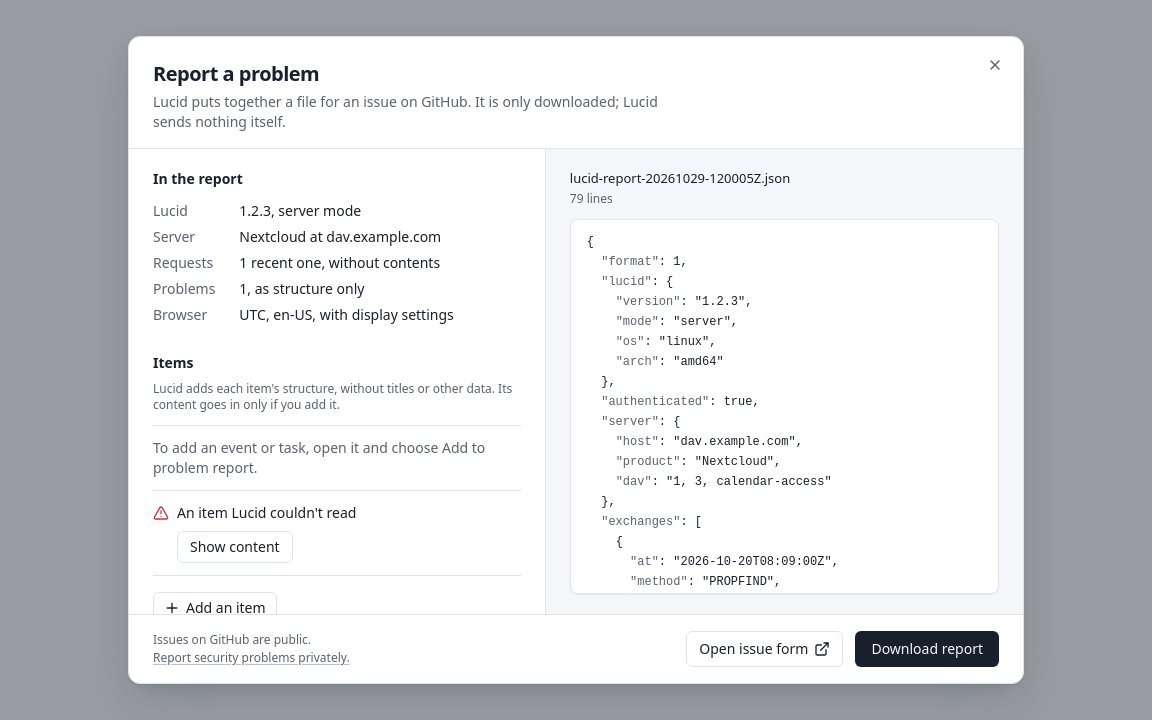
Test: ReportDialog (FR-36) › offers to try again when the content fails to load
This screenshot has width=1152, height=720.
Click the button "Show content" at [235, 547], box [177, 531, 293, 563]
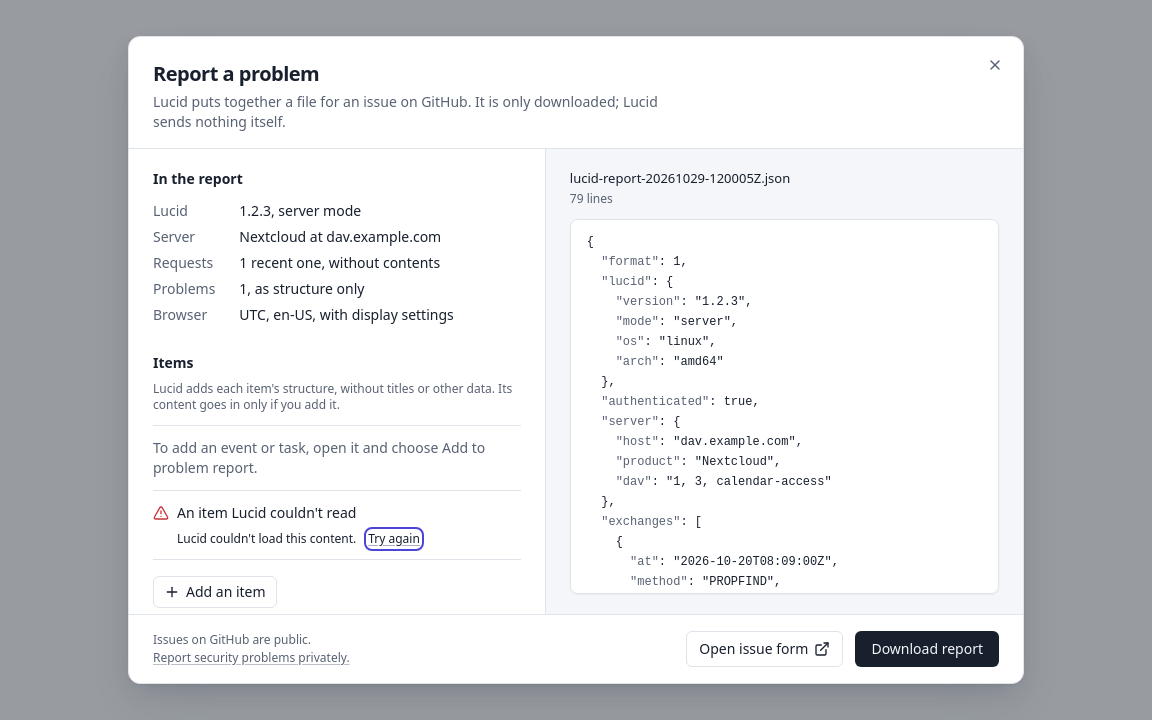
Expected: the text "Lucid couldn't load this content." is shown, [177, 531, 356, 547]
Click the button "Try again" at [394, 539], box [368, 531, 420, 547]
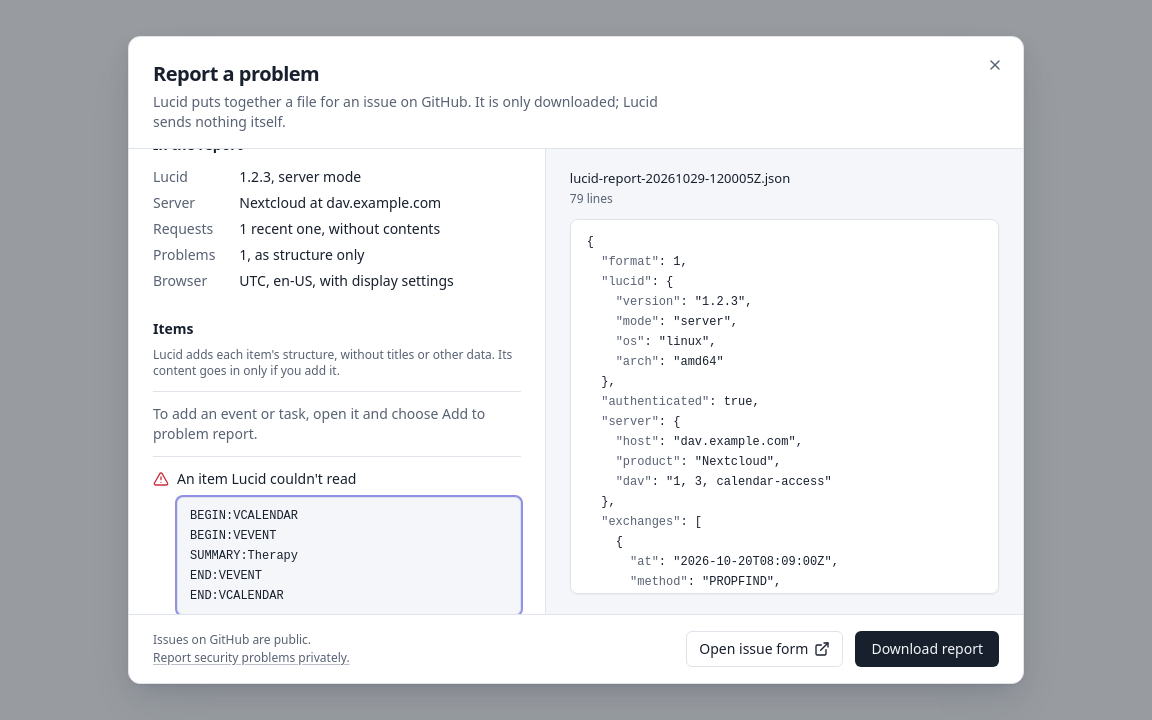
Expected: the text "SUMMARY:Therapy" is shown, [190, 509, 298, 603]
